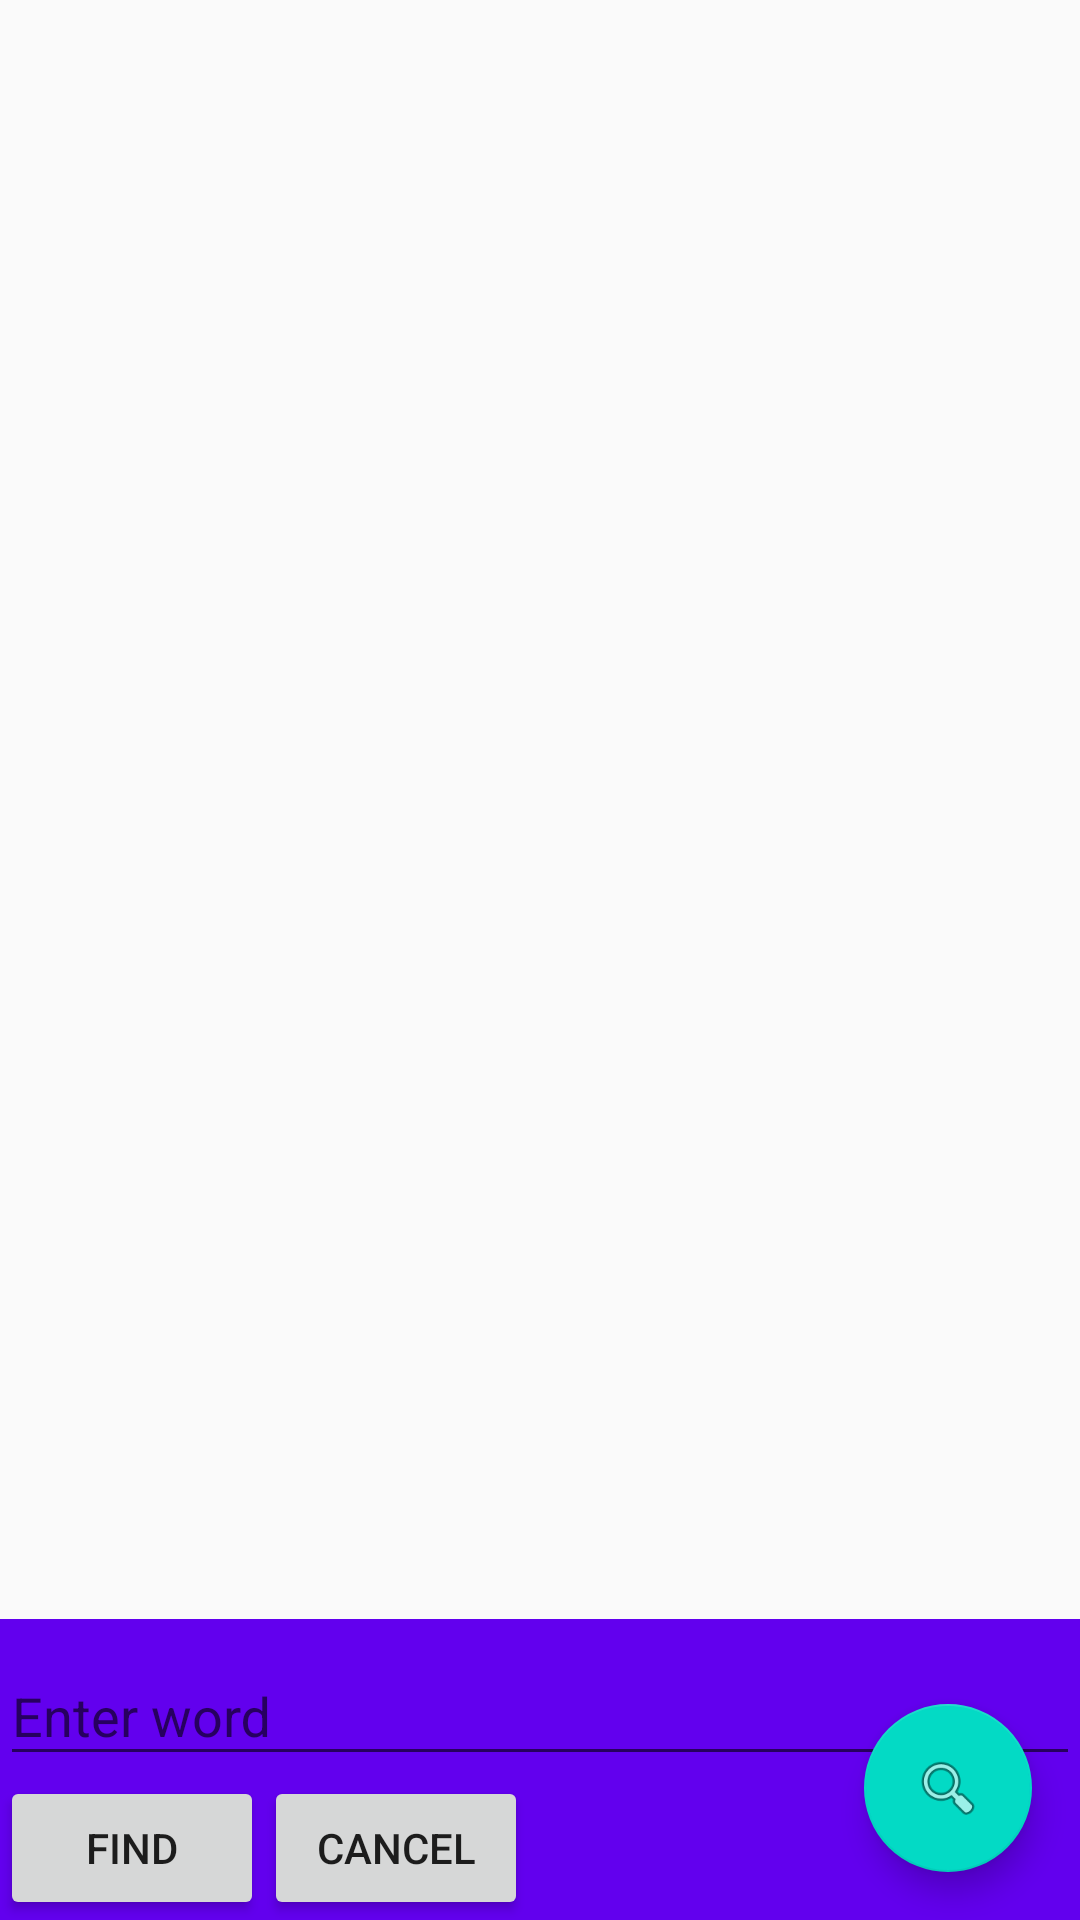

Icon click points for this 1080*1920 phone screenshot, format (x,y):
search: (948,1788)
